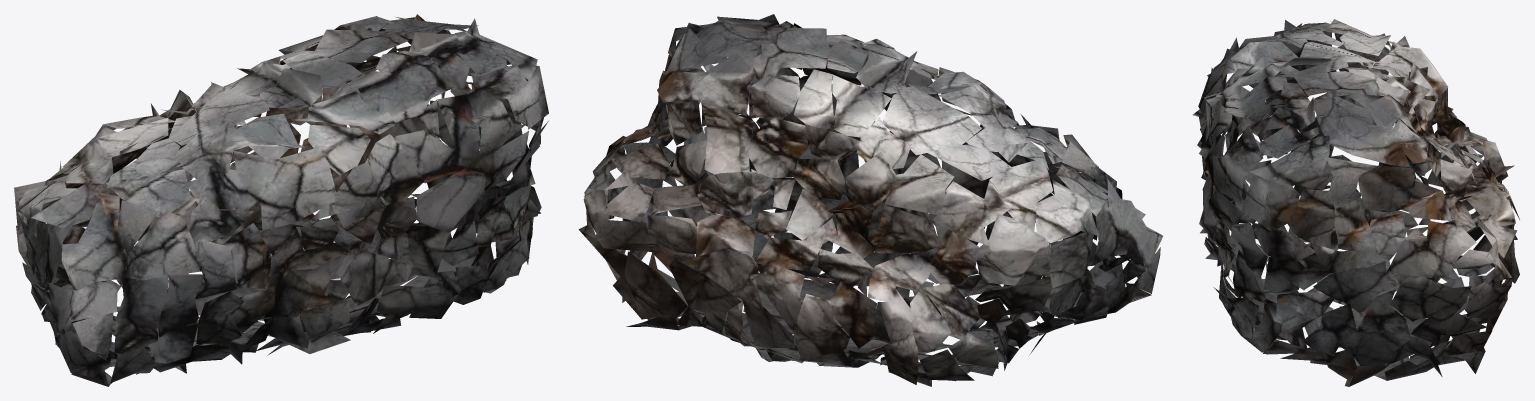
File: granite-b.glb
The picture shows the model from 3 angles, left to right: view 1: azimuth 30°, elevation 25°; view 2: azimuth 150°, elevation 25°; view 3: azimuth 270°, elevation 25°; orthographic projection. The views are drawn at different scales.
Parts seen in each view (by area): view 1: Mesh_0; view 2: Mesh_0; view 3: Mesh_0.
Part boxes in pixels (bbox=[...]): Mesh_0: bbox=[14, 14, 548, 386]; Mesh_0: bbox=[578, 14, 1163, 386]; Mesh_0: bbox=[1192, 19, 1519, 386].
Bounding box in the file's own units: 2.21 × 1.2 × 1.34.
Materials: 1 (1 with a texture image).
